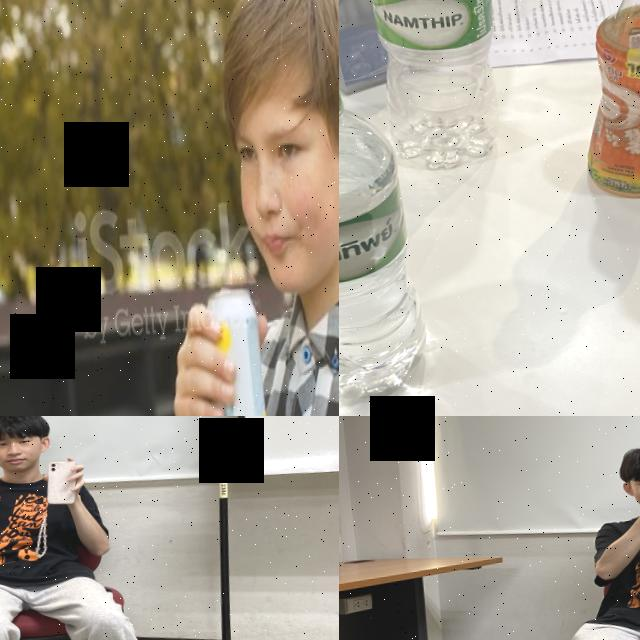bottle: (339, 62, 431, 408), (354, 0, 513, 175), (567, 0, 640, 205)
can: (198, 281, 275, 416)
